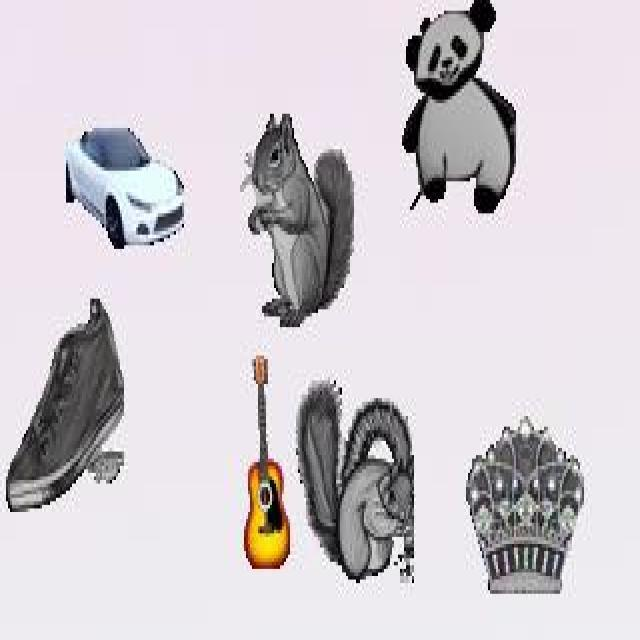Other Objects: (5, 295, 124, 513), (466, 415, 584, 595)
